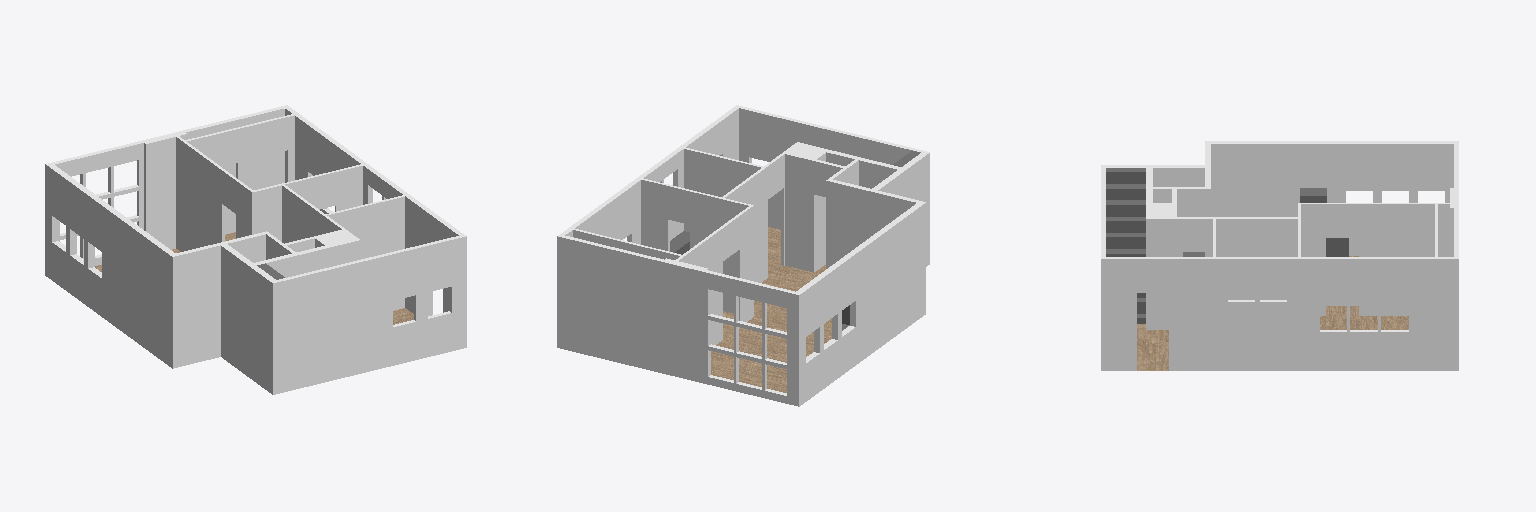
The picture shows the model from 3 angles: view 1: azimuth 30°, elevation 25°; view 2: azimuth 150°, elevation 25°; view 3: azimuth 270°, elevation 25°; orthographic projection.
Parts seen in each view (by area): view 1: default; view 2: default; view 3: default.
Boxes of the visible parts, box(x1,y1,x2,y2) form: default: box(45, 105, 466, 394); default: box(557, 105, 929, 406); default: box(1101, 141, 1458, 370).
Bounding box in the file's own units: 0.658 × 0.29 × 0.8447.
16 materials, 1 textured.